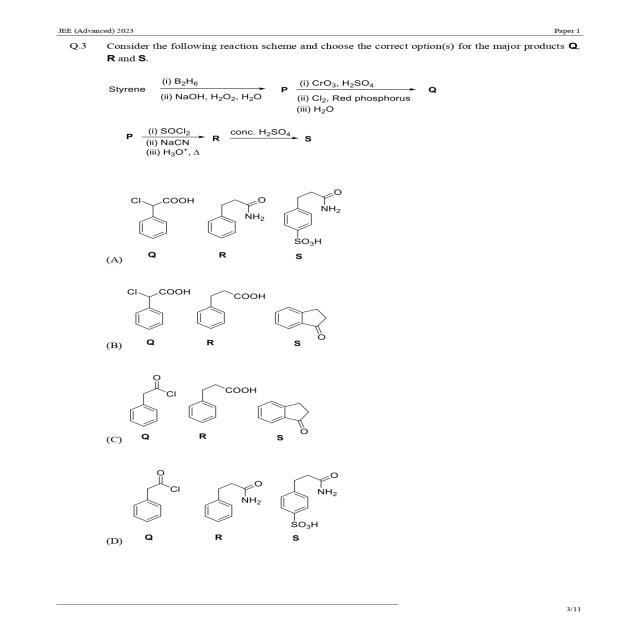Answer_Block: (26, 259, 640, 560)
Question_Answer_Block: (26, 38, 640, 582)
Question_Block: (26, 37, 640, 260)
Question_Paper_Area: (26, 38, 640, 582)
